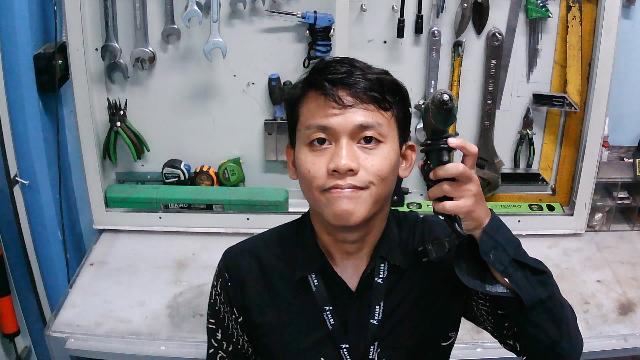gun_lem: (416, 89, 480, 223)
